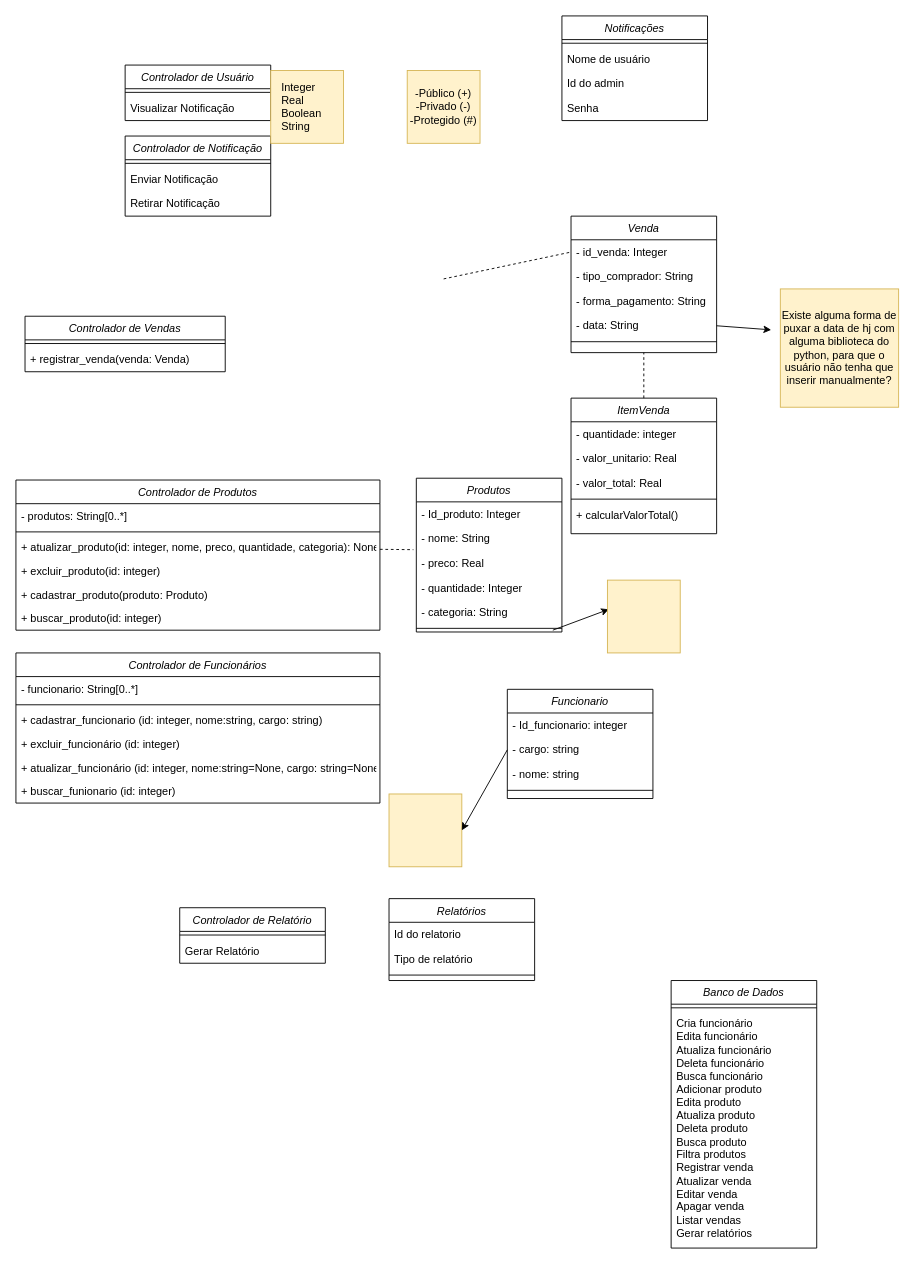
This 915x1267 diagram has some shape labels left out. Each missing label, with the centre of its shape:
"Métodos de manipulação" goes at point (643, 616).
"Perecisa de Cargo?" goes at point (425, 830).
